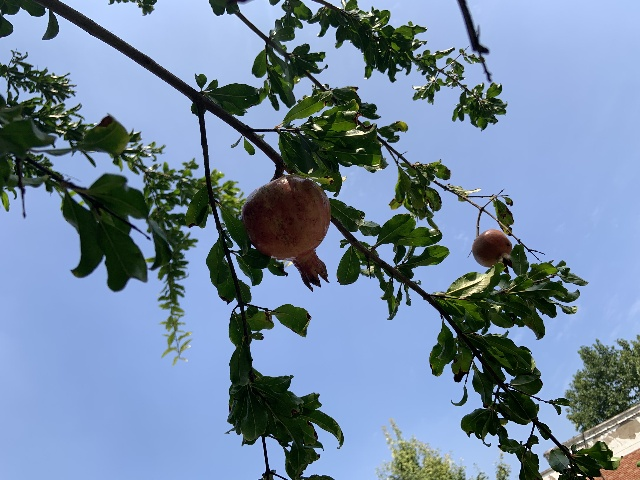ripe: (241, 175, 330, 292), (472, 229, 512, 273)
